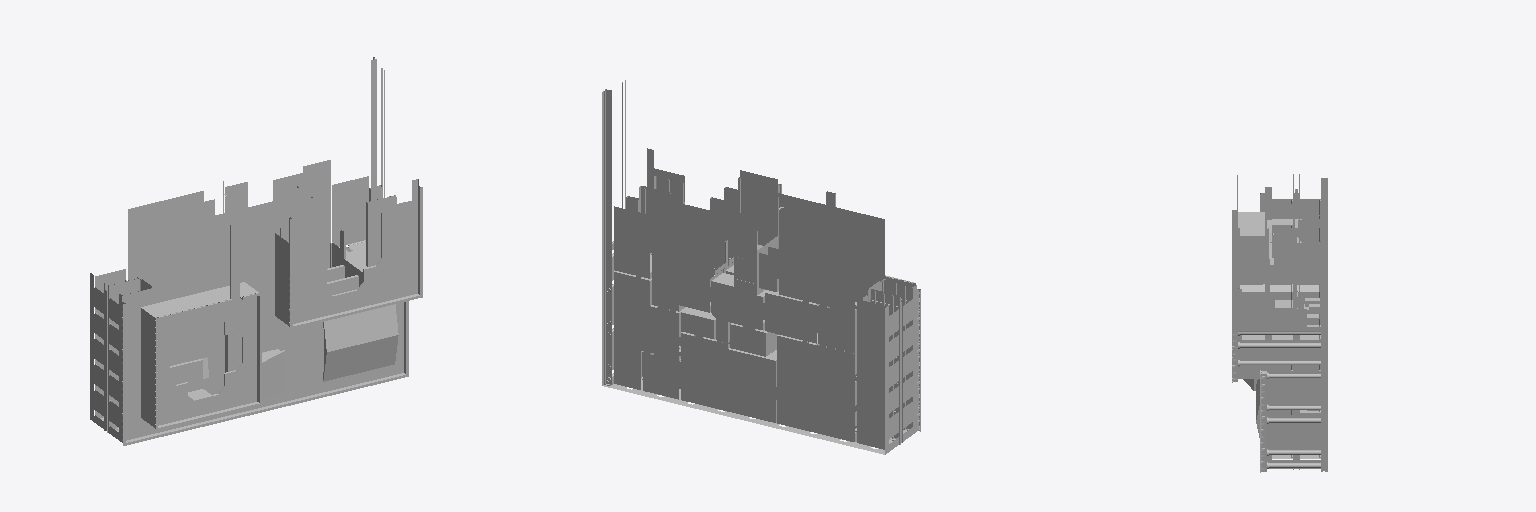
3 views of the same model, side by side, from view 1: azimuth 30°, elevation 25°; view 2: azimuth 150°, elevation 25°; view 3: azimuth 270°, elevation 25° (orthographic).
Visible parts, largest first — view 1: g1; view 2: g1; view 3: g1.
Part boxes in pixels (left/top/right/bottom): g1: left=90, top=57, right=422, bottom=445; g1: left=602, top=80, right=920, bottom=454; g1: left=1232, top=174, right=1327, bottom=472.
Bounding box in the file's own units: 4665 × 4630 × 1370.